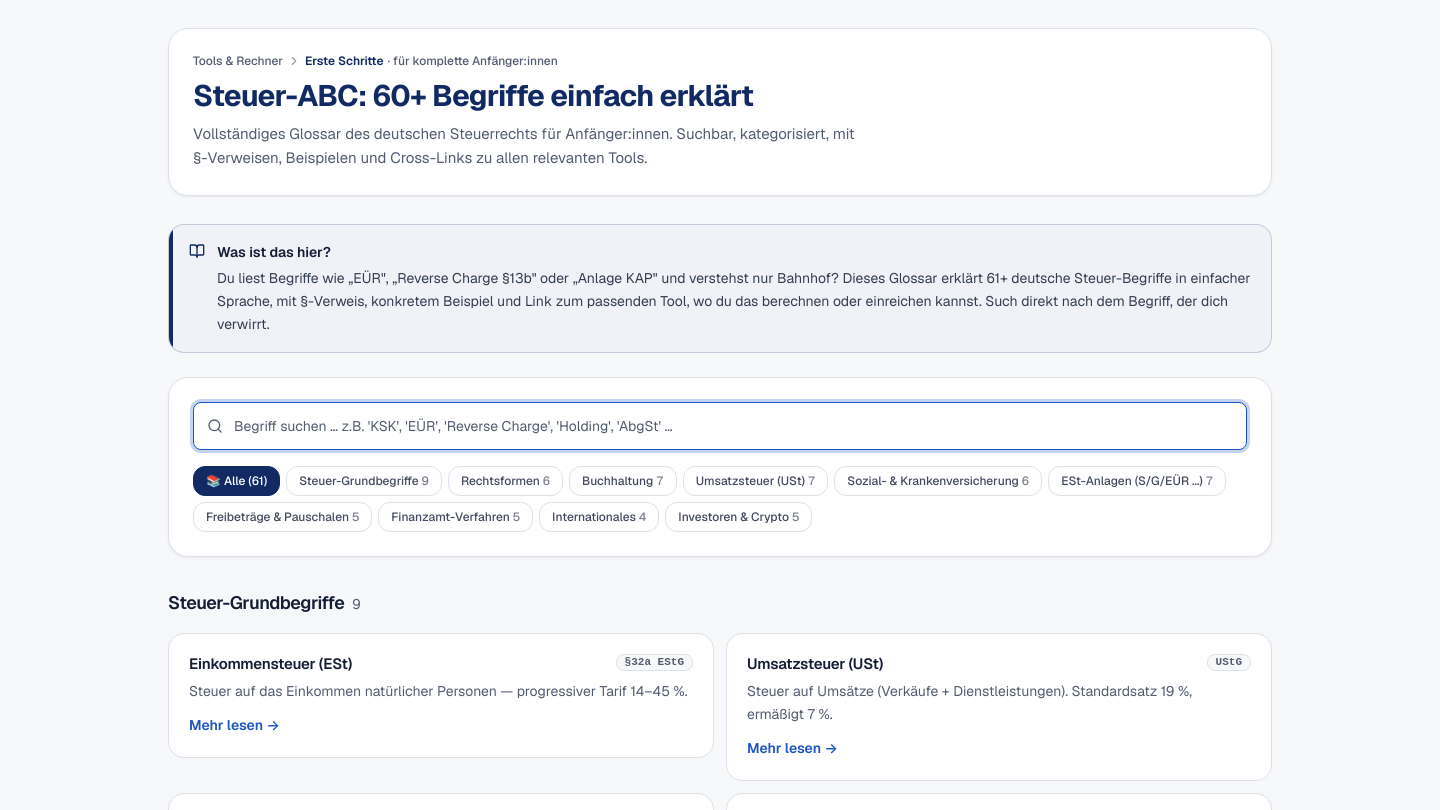
Test: SteuerABC — Suche › Such-Filter findet nach Begriff
Replace the text in the search field with placeholder "Begriff suchen" with "Reverse Charge" at (720, 426), box x1=193 y1=402 x2=1247 y2=450
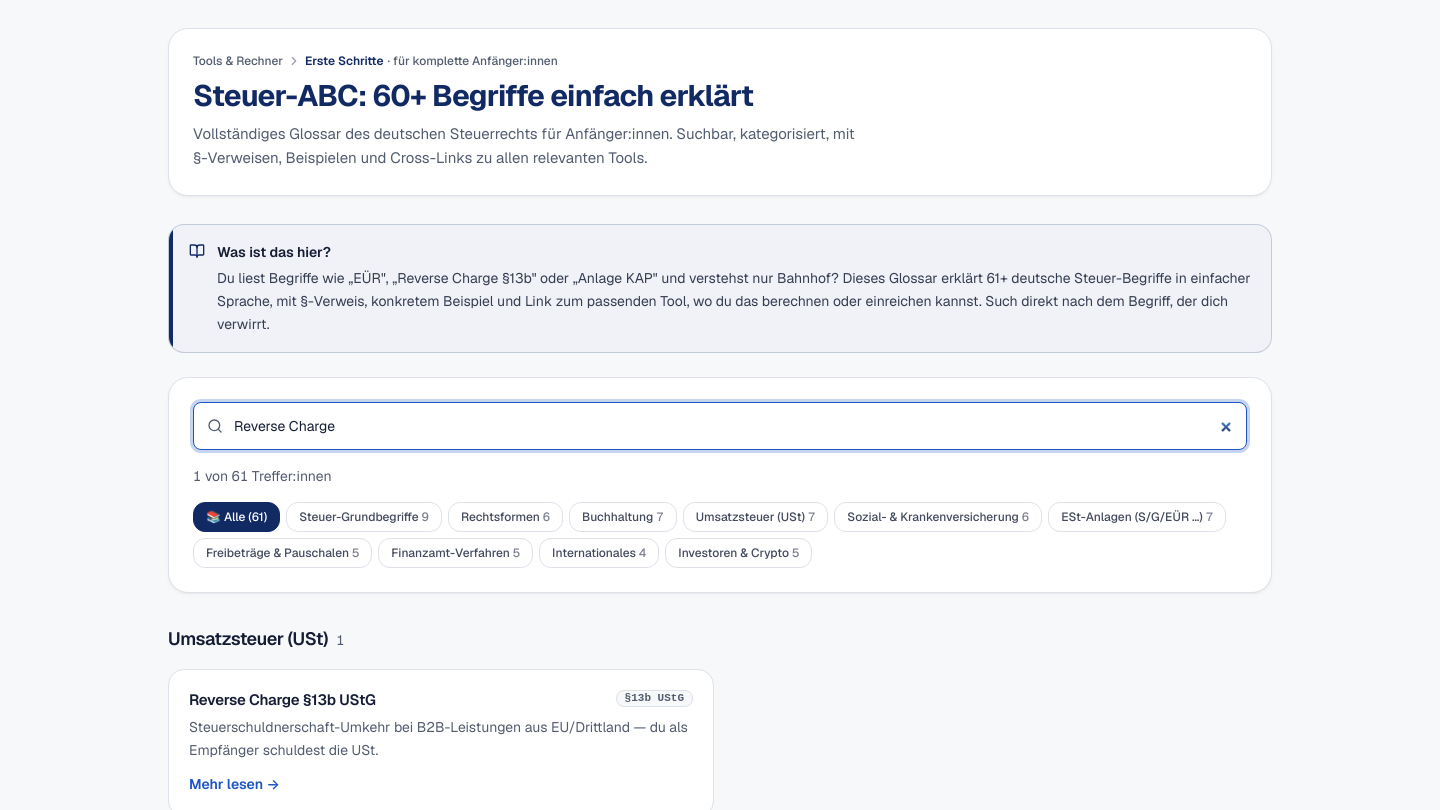
Expected: the text "Reverse Charge" is shown, x1=217 y1=270 x2=986 y2=288
Now the text "1 von 61 Treffer:innen" is shown, box x1=193 y1=467 x2=332 y2=485
